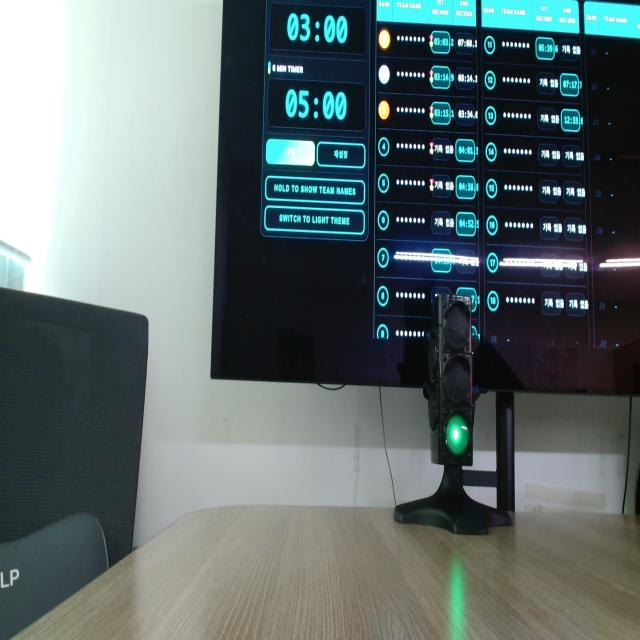green_light: (445, 415, 469, 456)
